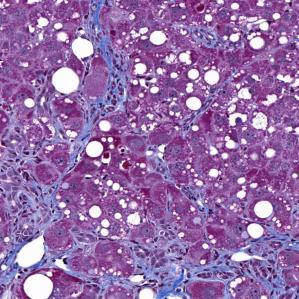fibrosis: (147, 227, 278, 284), (89, 35, 136, 117)
